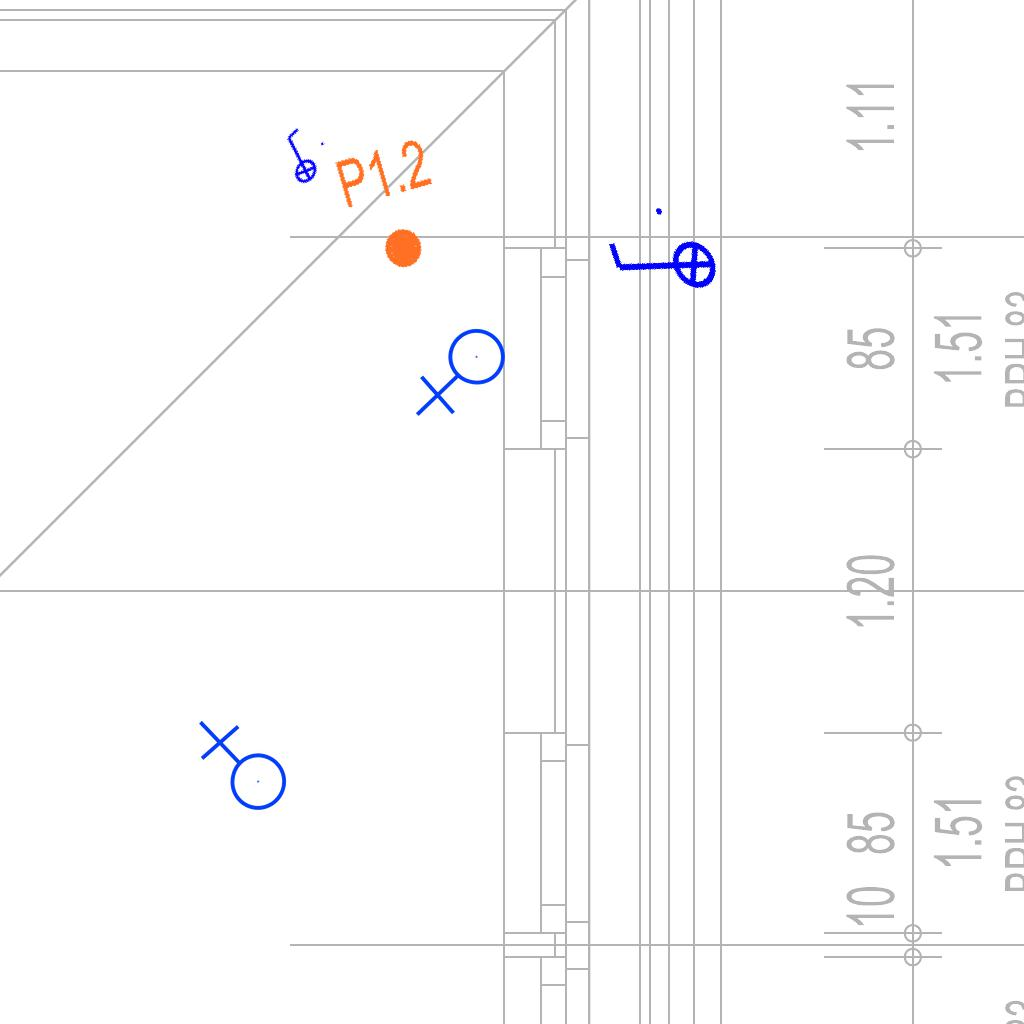Ausschalter_beleuchtet: (591, 191, 735, 339), (264, 120, 334, 194)
Downlight_LED_Einbauleuchten_Flur: (331, 133, 456, 283)
Elektroanschluss_allgemein_230V_Geraeteanschlussdose_230V: (194, 720, 288, 819), (415, 327, 514, 421)
